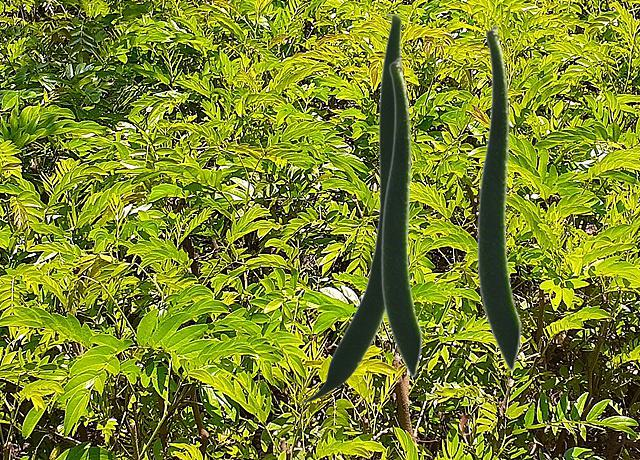french_bean: (300, 13, 406, 402), (476, 24, 521, 371), (380, 57, 422, 377)
